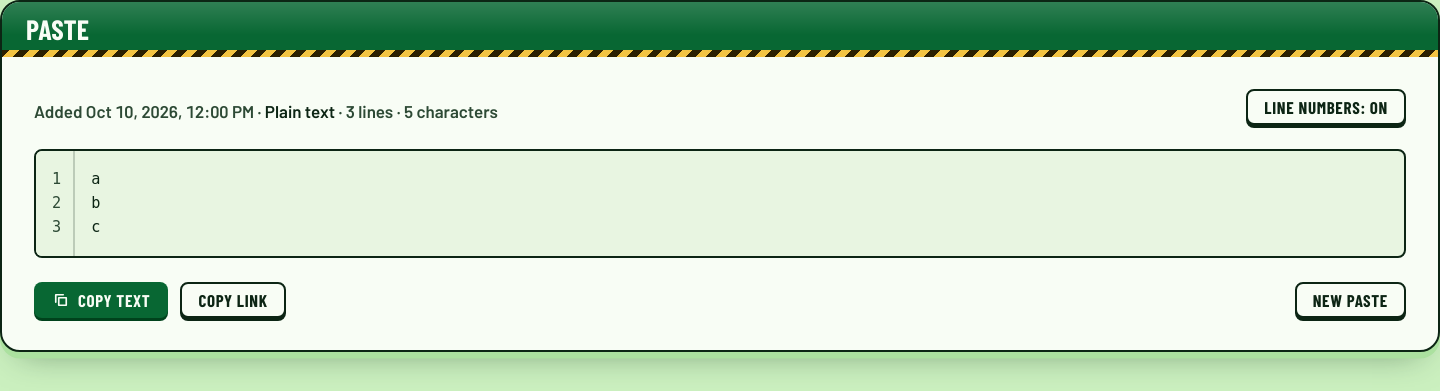
Test: PasteViewer › numbers the lines of a multi-line paste, outside the copyable text
What coordinates should you click on to do the following:
click the button "Line numbers: on"
I would click on:
 (1326, 107)
Its box is [1246, 89, 1406, 125].
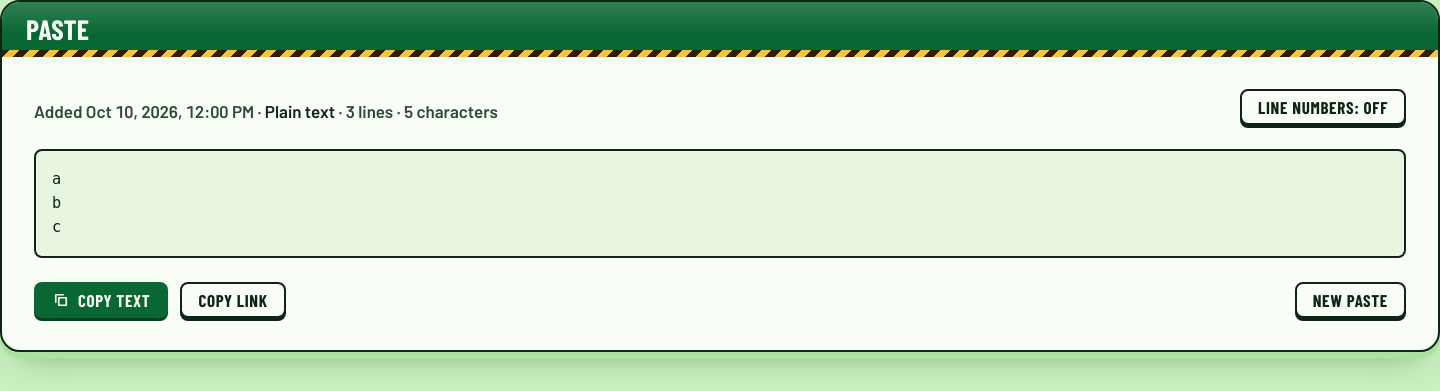
expect the button "Line numbers: off" is shown: met, box [1240, 89, 1406, 125]
